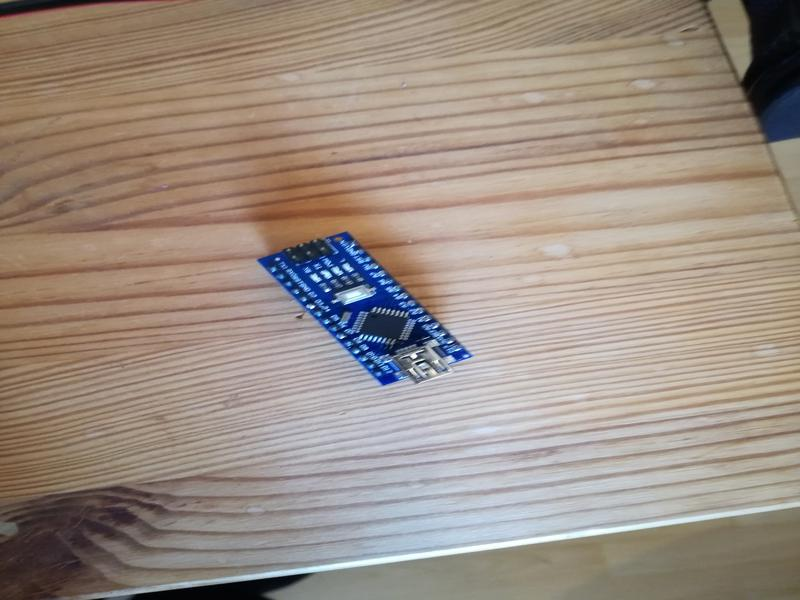Arduino_Nano: (254, 229, 483, 395)
